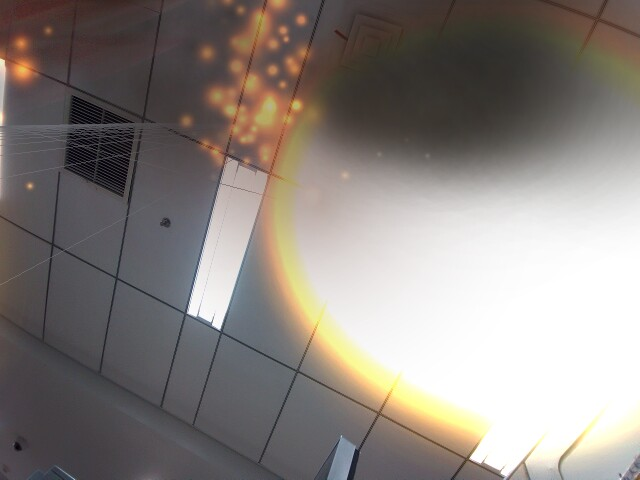fire: (269, 27, 633, 453)
